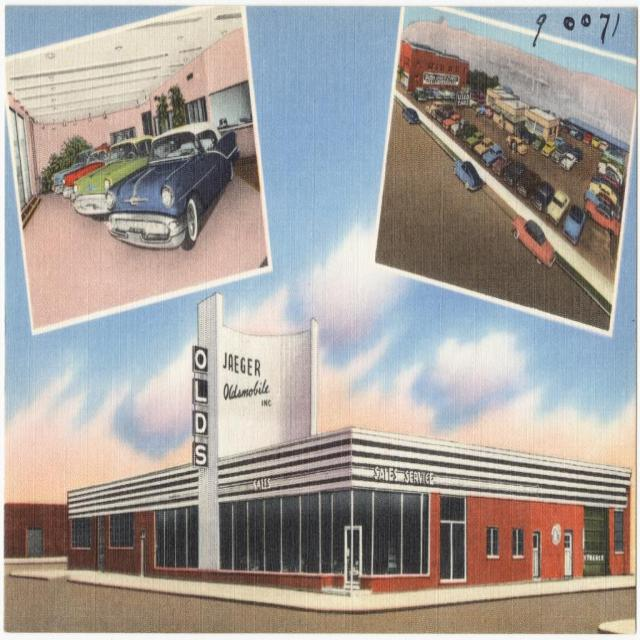car: (103, 117, 238, 251), (70, 131, 161, 223), (62, 139, 103, 206), (509, 216, 556, 273), (39, 142, 92, 189), (452, 155, 483, 193), (403, 105, 420, 127)
